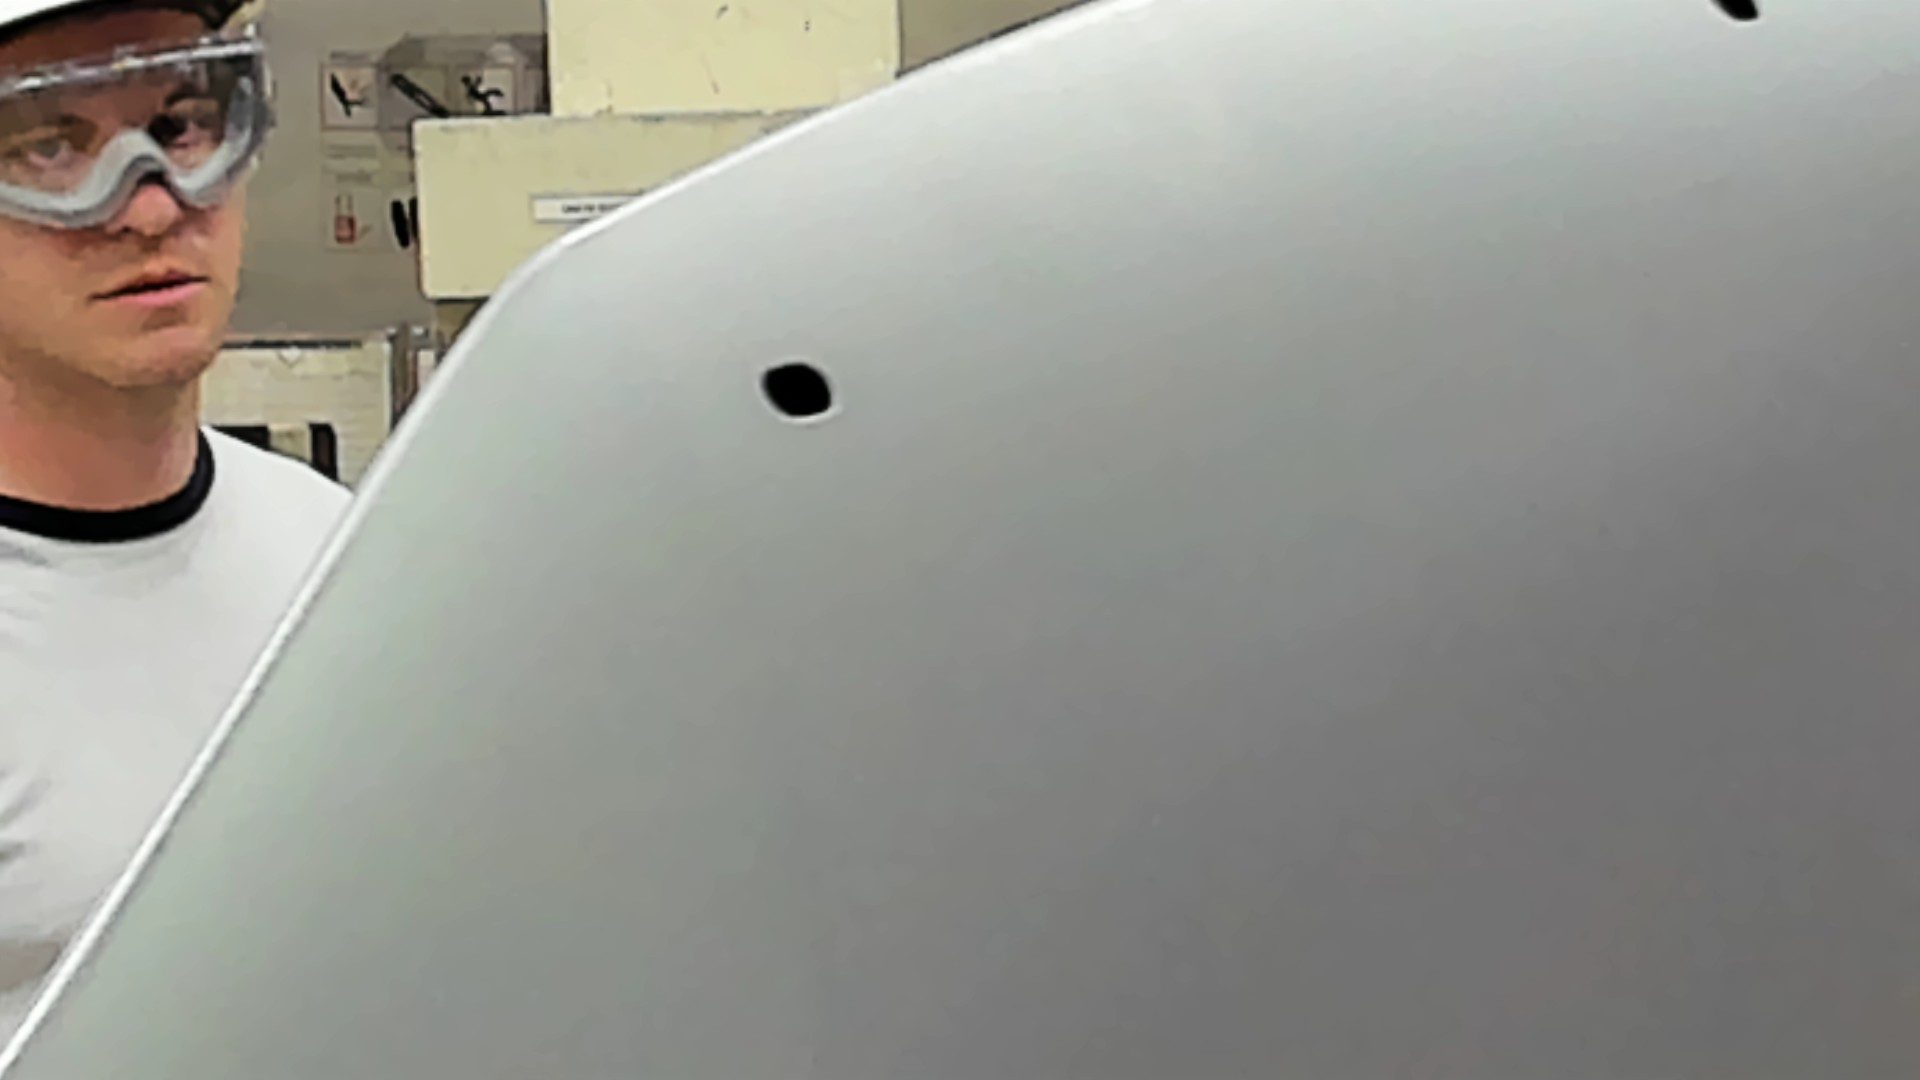amorfo: (754, 357, 843, 429), (1706, 1, 1766, 28)
